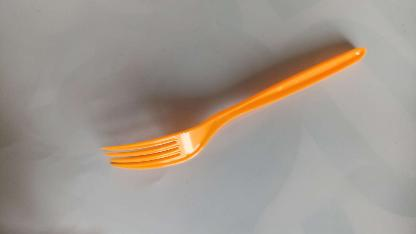Others: (98, 45, 366, 179)
